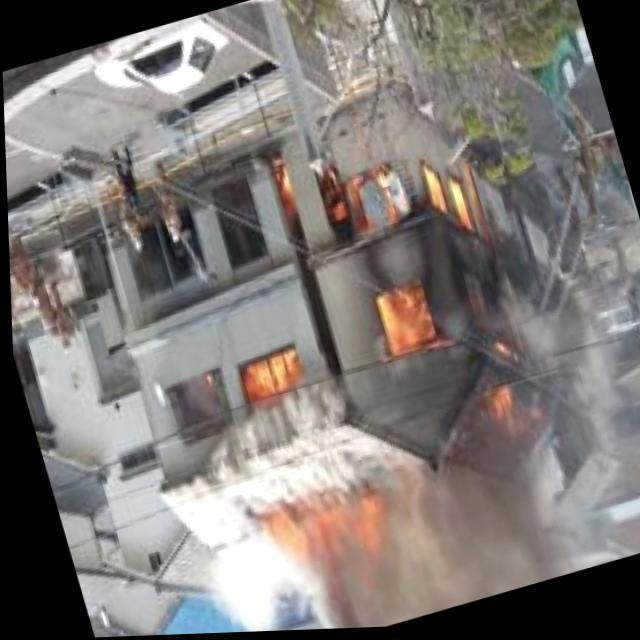fire: (300, 108, 560, 466), (250, 472, 410, 632), (217, 336, 311, 416)
